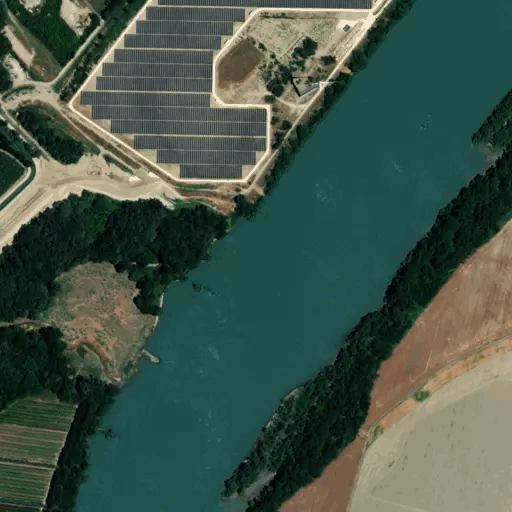wt: (275, 51, 338, 113)
